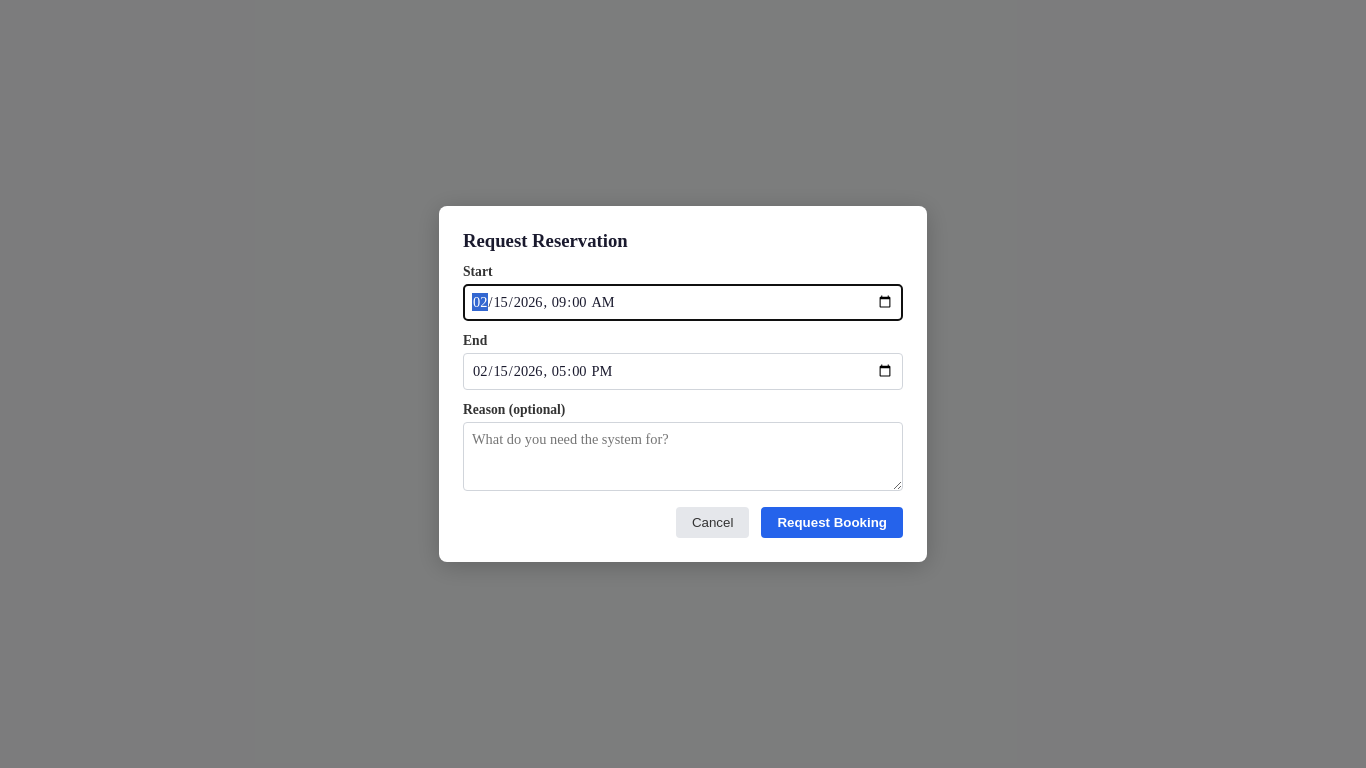
Test: ReservationRequestDialog › shows generic error message for non-Error exceptions
Click the button "Request Booking" at (832, 522), box [761, 507, 903, 538]
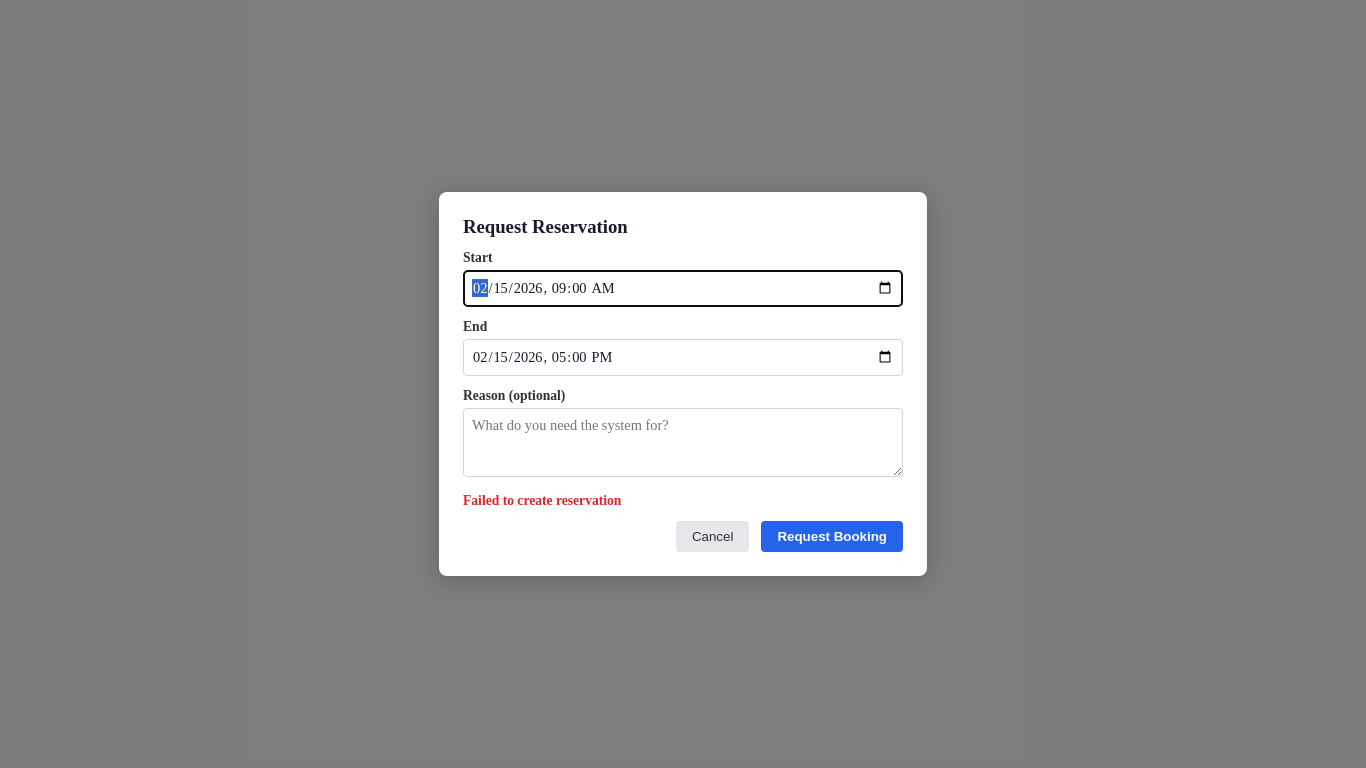
Check: the text "Failed to create reservation" is shown, box [463, 493, 621, 508]
